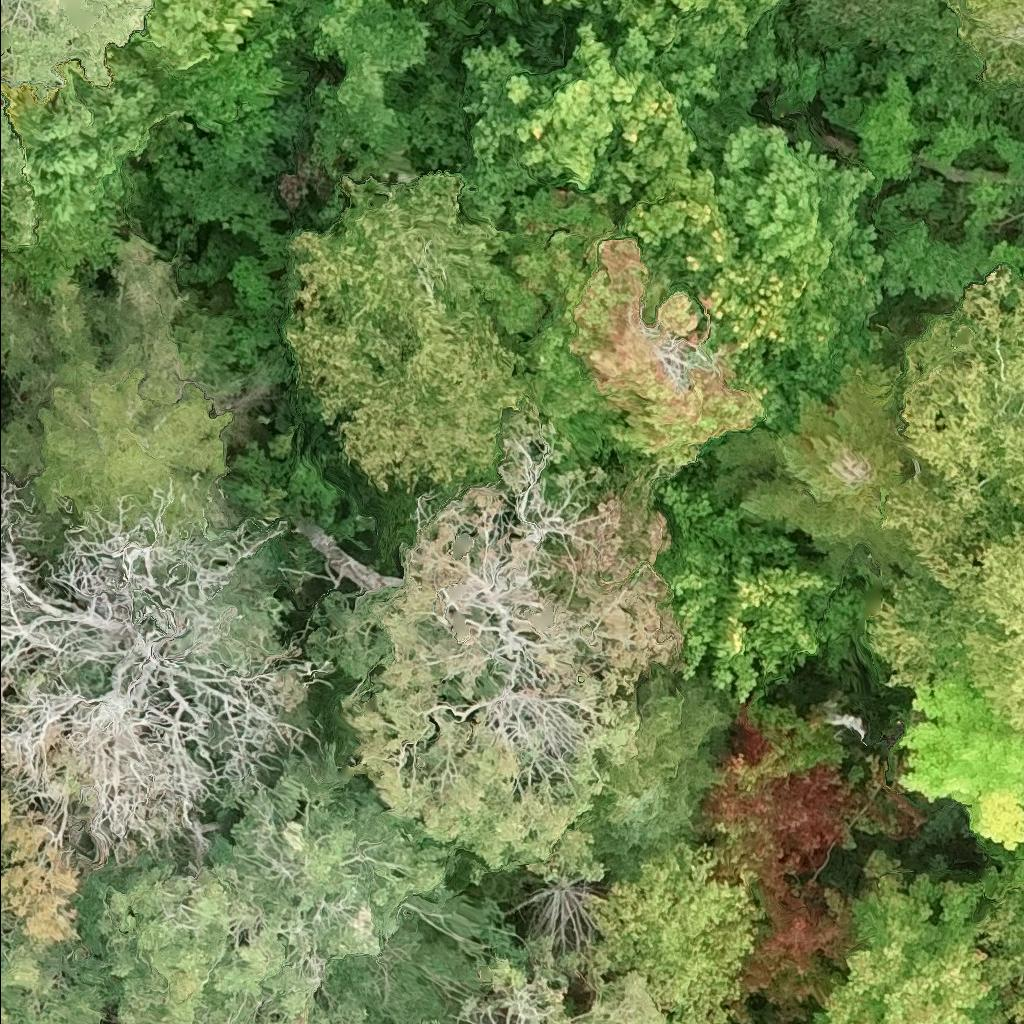crown: (309, 411, 683, 883), (98, 744, 526, 1023), (290, 173, 539, 497), (494, 183, 766, 478), (690, 686, 921, 1023), (0, 236, 233, 526), (693, 103, 884, 432), (461, 25, 721, 228), (659, 476, 870, 704), (714, 356, 916, 578), (619, 164, 806, 401), (881, 265, 1023, 560), (581, 658, 739, 883), (859, 523, 1023, 728), (813, 853, 1008, 1023), (586, 839, 761, 1023), (289, 0, 436, 184), (893, 665, 1023, 851), (566, 0, 793, 99), (431, 930, 628, 1023), (0, 0, 156, 102), (946, 0, 1023, 89), (0, 109, 38, 244), (978, 903, 1023, 982), (321, 0, 405, 34), (496, 0, 515, 10), (1014, 1005, 1023, 1023), (543, 0, 562, 6), (0, 236, 4, 260), (408, 0, 427, 3)
